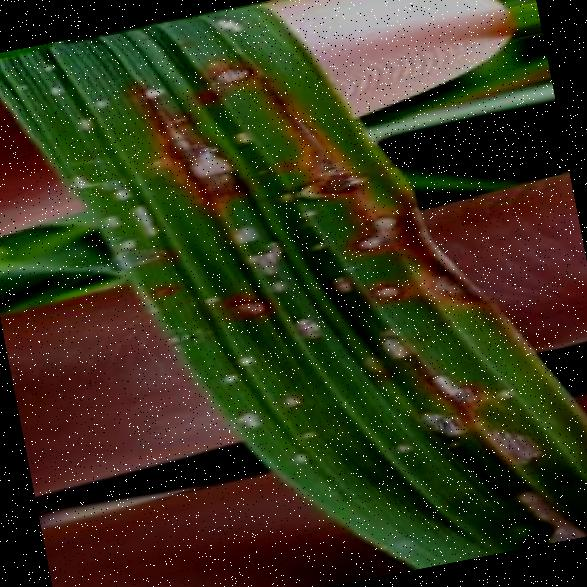Leaf_smut: (267, 100, 370, 220), (143, 102, 242, 218), (187, 262, 287, 368), (455, 399, 566, 483), (404, 346, 514, 426), (100, 252, 208, 332), (398, 240, 496, 328), (324, 194, 430, 274), (496, 467, 587, 548), (390, 387, 478, 468), (356, 312, 422, 370), (353, 263, 407, 324)
